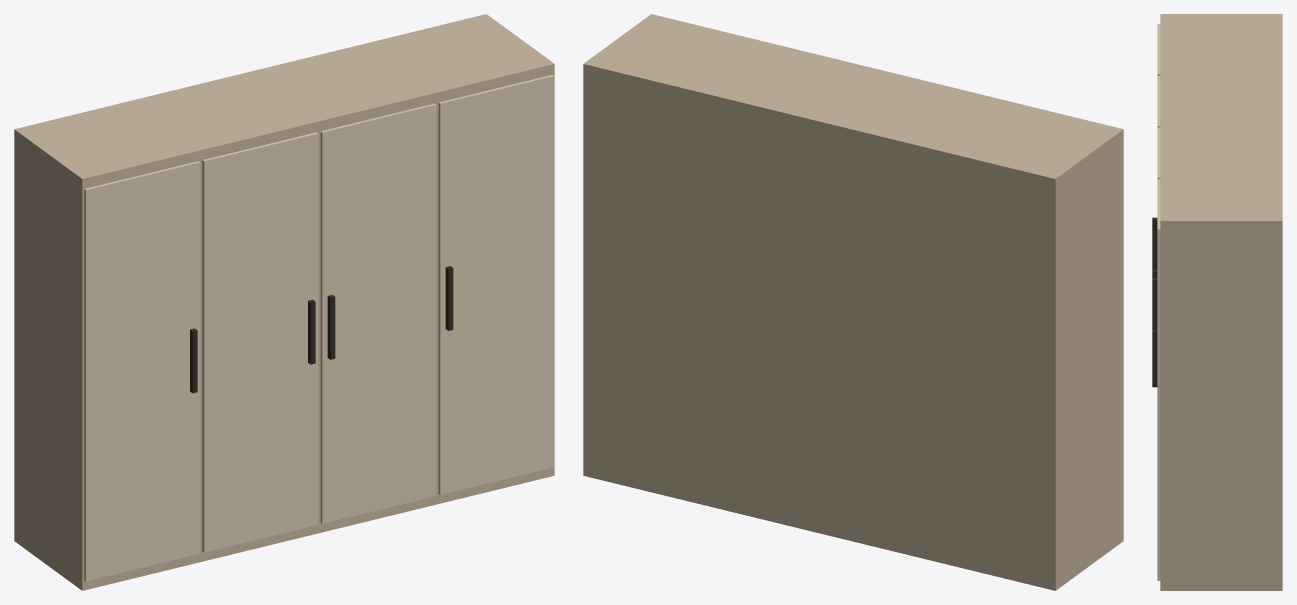
File: wardrobe_4.glb
3 views of the same model, side by side, from view 1: azimuth 30°, elevation 25°; view 2: azimuth 150°, elevation 25°; view 3: azimuth 270°, elevation 25° (orthographic). The views are drawn at different scales.
Visible parts, largest first — view 1: wardrobe_4; view 2: wardrobe_4; view 3: wardrobe_4.
Boxes of the visible parts, x1,y1,x2,y2 form: wardrobe_4: [14, 14, 554, 590]; wardrobe_4: [583, 14, 1123, 590]; wardrobe_4: [1152, 14, 1282, 590].
Bounding box in the file's own units: 2.4 × 2 × 0.64.
